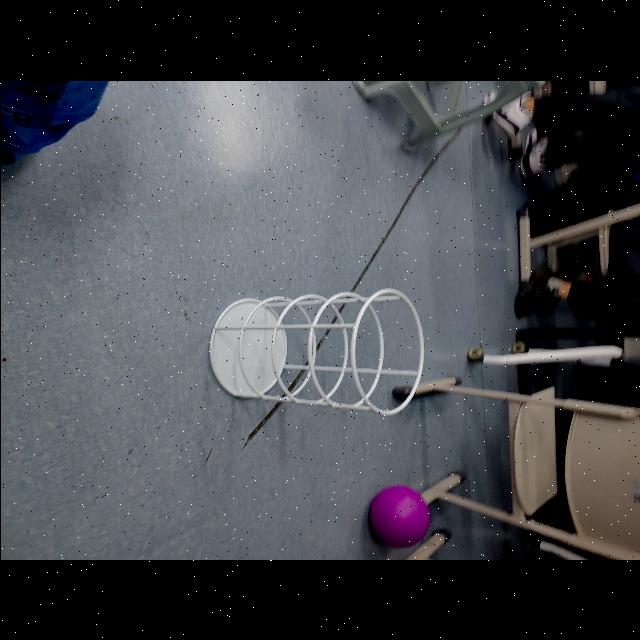S: (207, 284, 425, 418)
